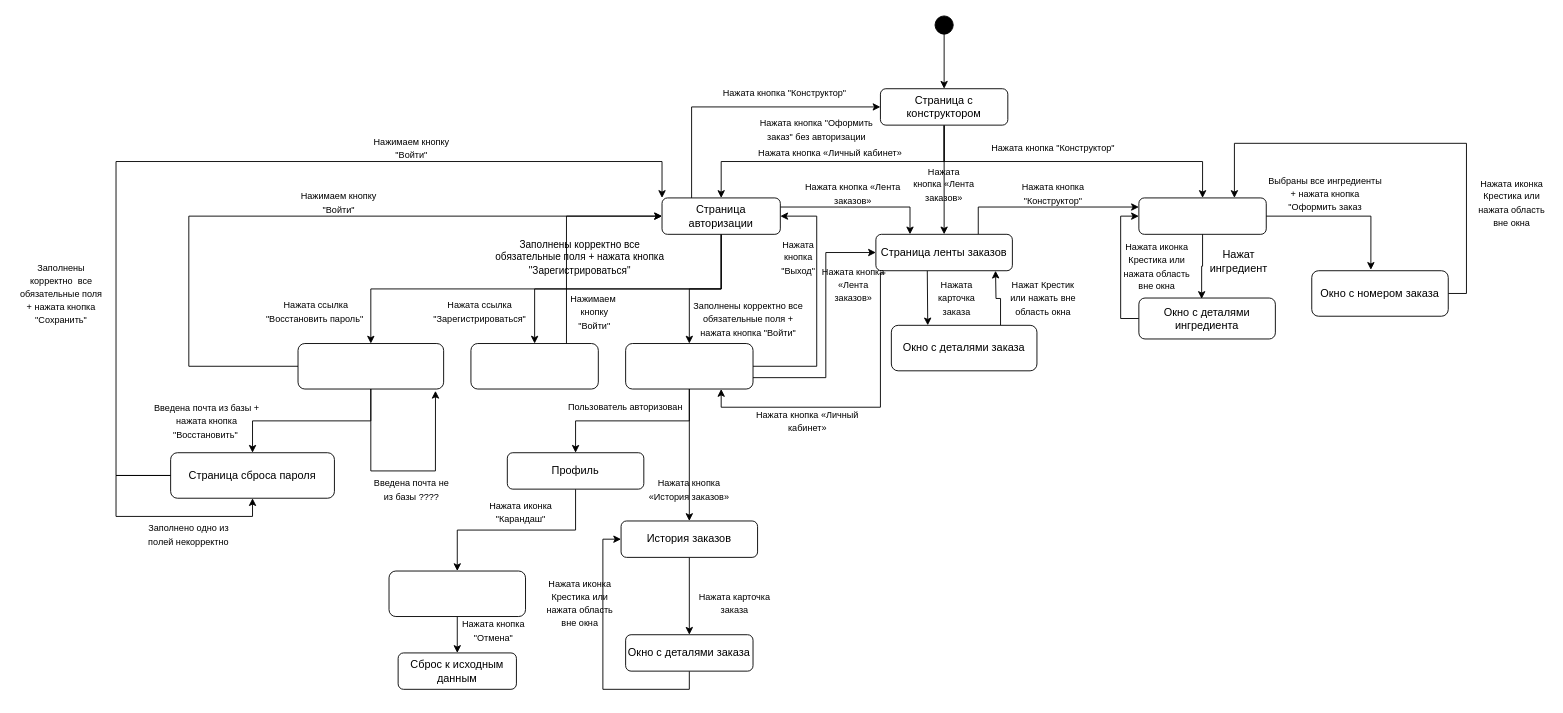
Image size: 1563x713. Some labels were removed from this diagram. The shapes that lost their labels are listed below. From the top down, each one's centre as x and y in pixels, then its label:
At pixel 1202 215: "Окно конструктора бургера".
At pixel 370 366: "Форма восстановления пароля".
At pixel 534 366: "Форма регистрации".
At pixel 689 366: "Личный кабинет".
At pixel 457 593: "Режим редактирования данных".
